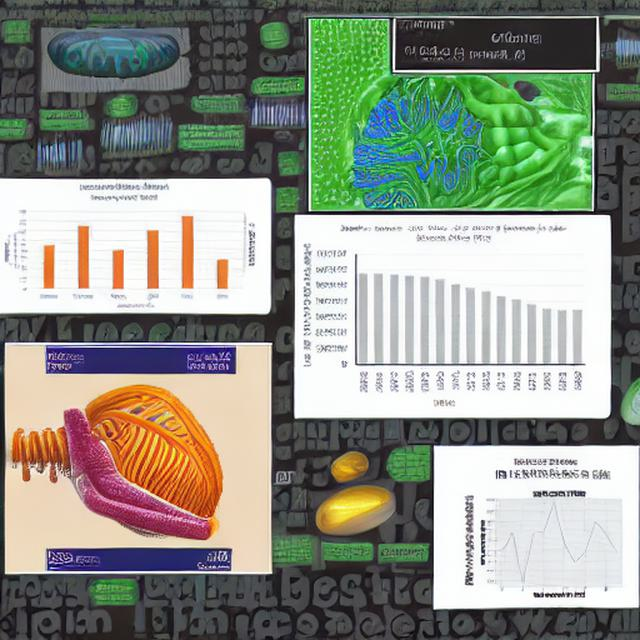Graph: (295, 220, 590, 412), (8, 182, 241, 310), (476, 481, 638, 603), (244, 94, 309, 132)
